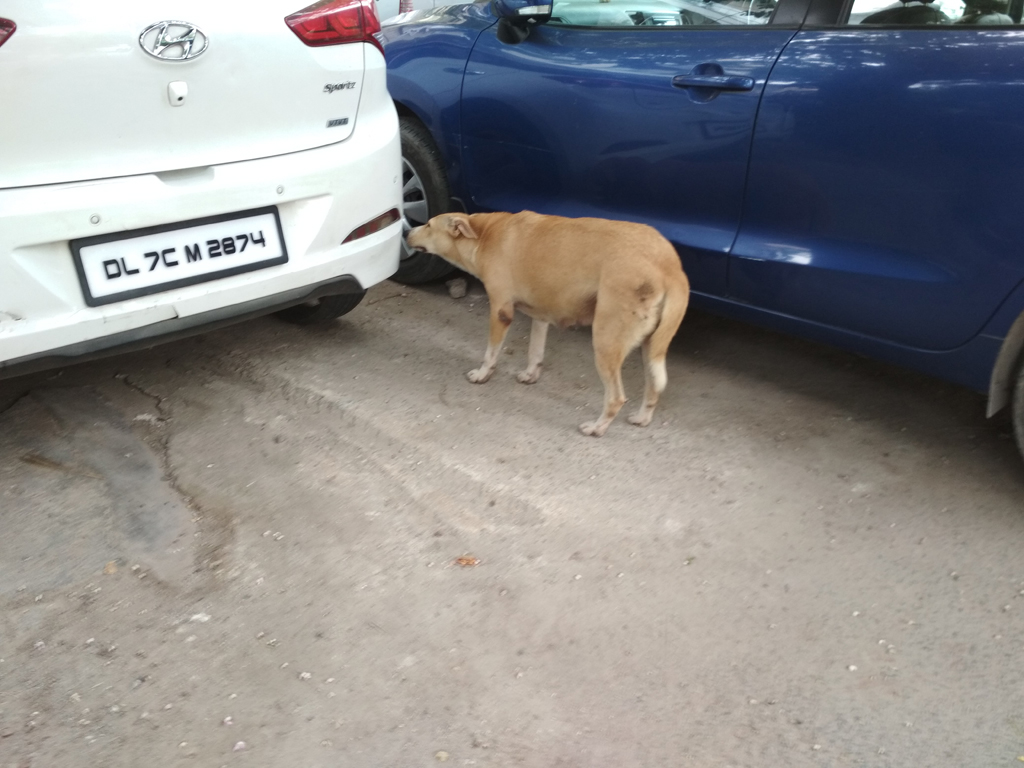dog: (404, 210, 692, 438)
